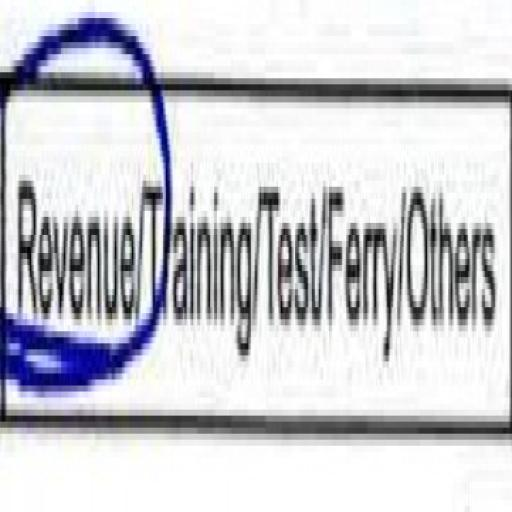check: (0, 0, 139, 470)
